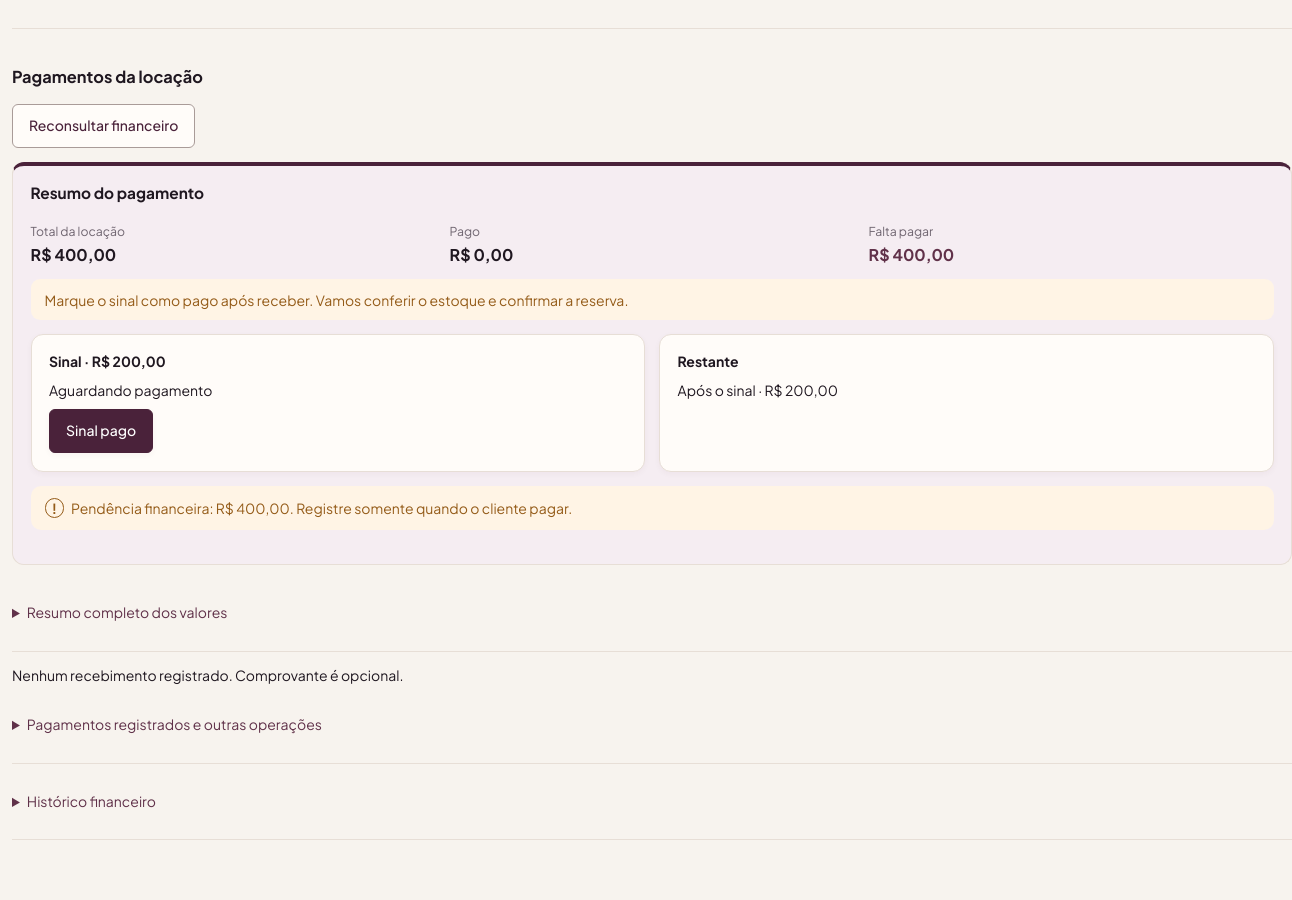
Test case: registers a deposit once and requests reservation only after the receipt commits
Click the button "Sinal pago": (101, 431) [49,409,153,453]
(page scrolled)
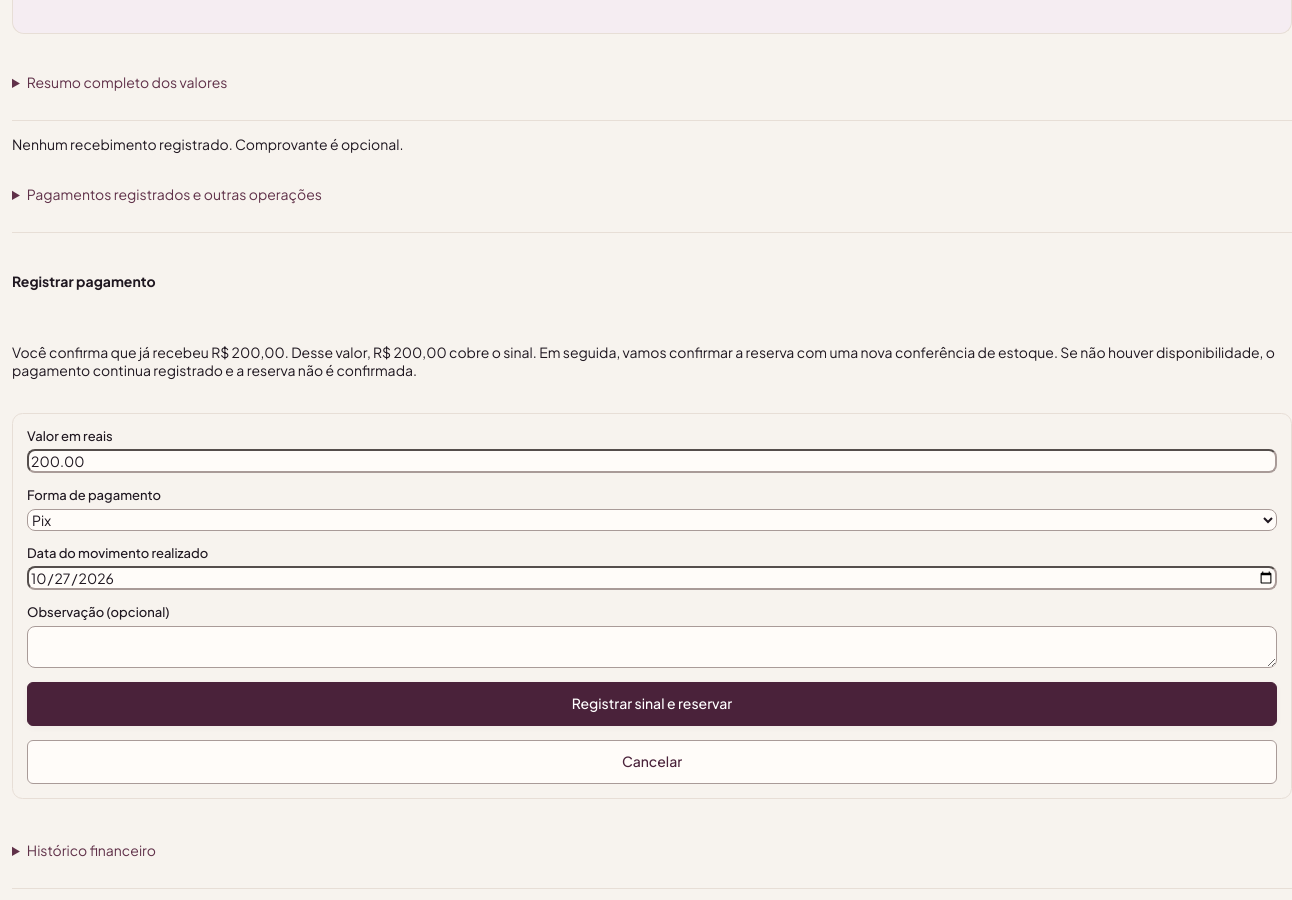
Check: the text "nova conferência de estoque" is shown, box [12,343,1275,379]
Click the button "Registrar sinal e reservar": (652, 704) [27,682,1277,726]
(page scrolled)
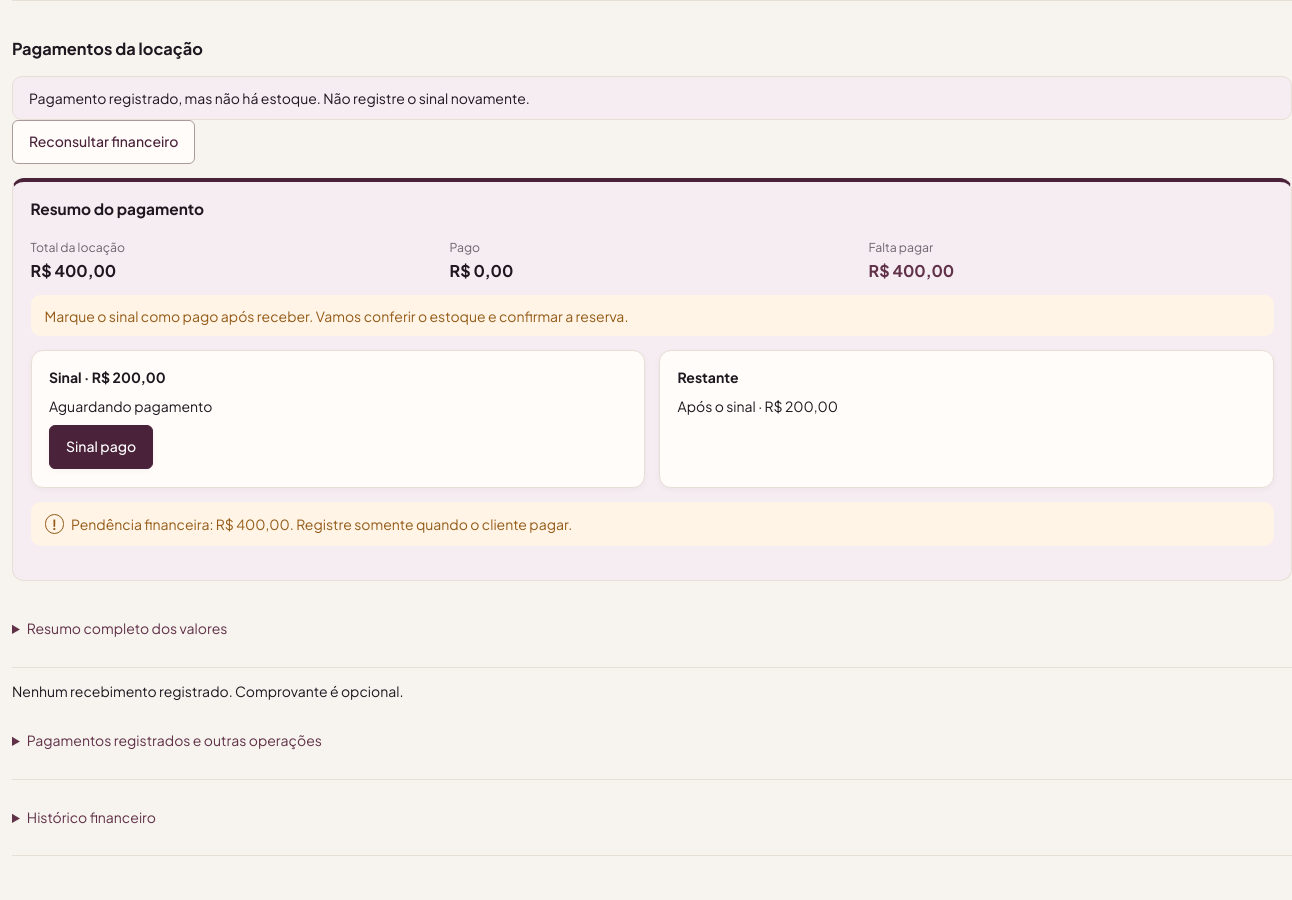
Check: the text "Pagamento registrado, mas não há estoque. Não registre o sinal novamente." is shown, box [12,76,1291,120]
